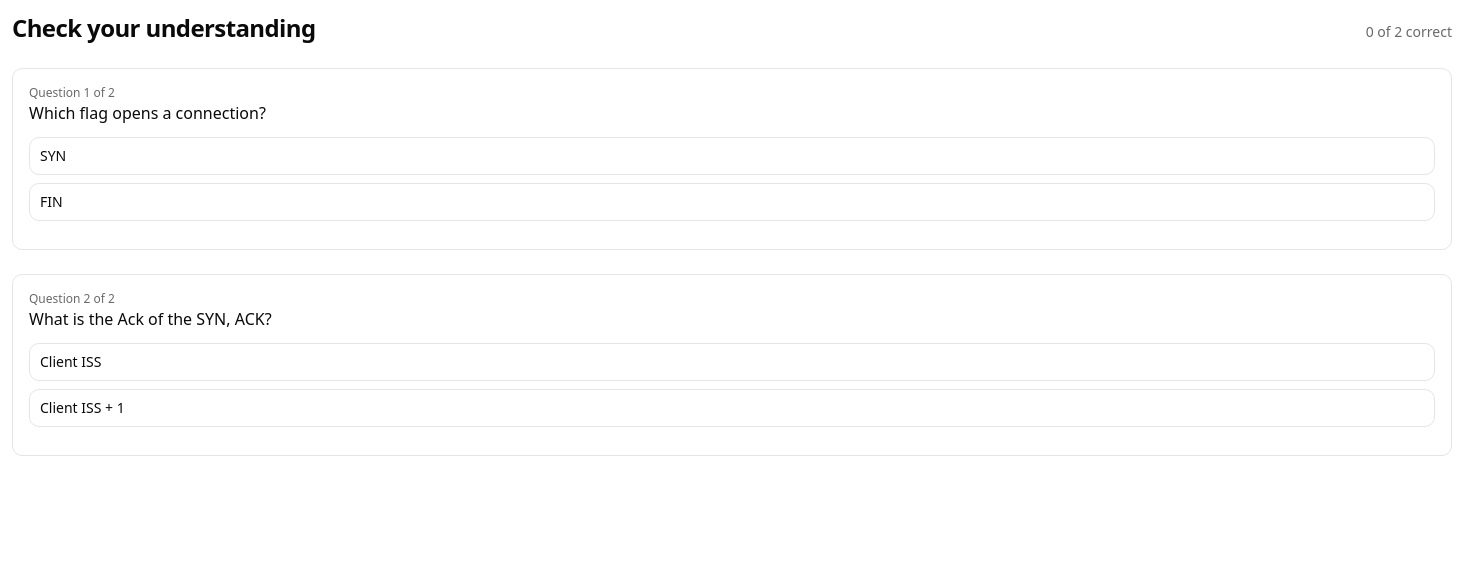
Test: QuizPanel › 正解すると「正解」と解説を読み上げ、スコアが増える
The width and height of the screenshot is (1464, 573).
Click the button "SYN".
click(53, 156)  # box [29,137,1435,175]
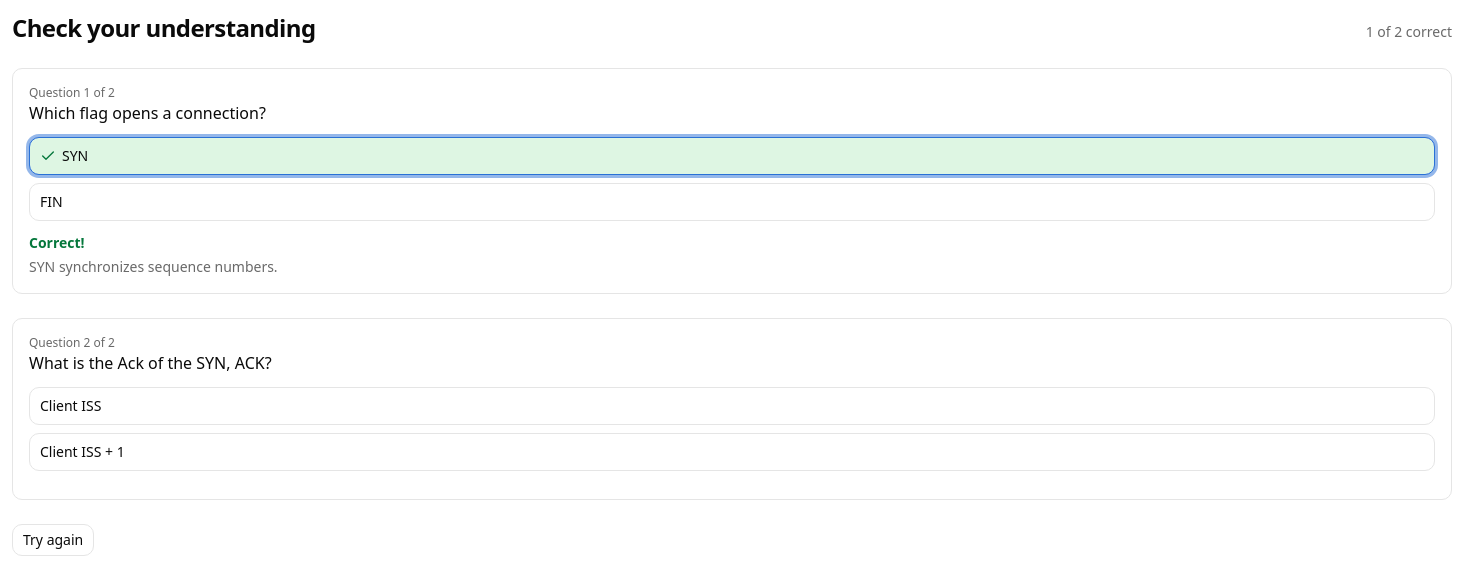
Expected: the message shows "Correct!", [29,233,85,252]
Expected: the message shows "SYN synchronizes sequence numbers.", [29,257,278,276]
Expected: the text "1 of 2 correct" is shown, [1366,22,1452,42]
